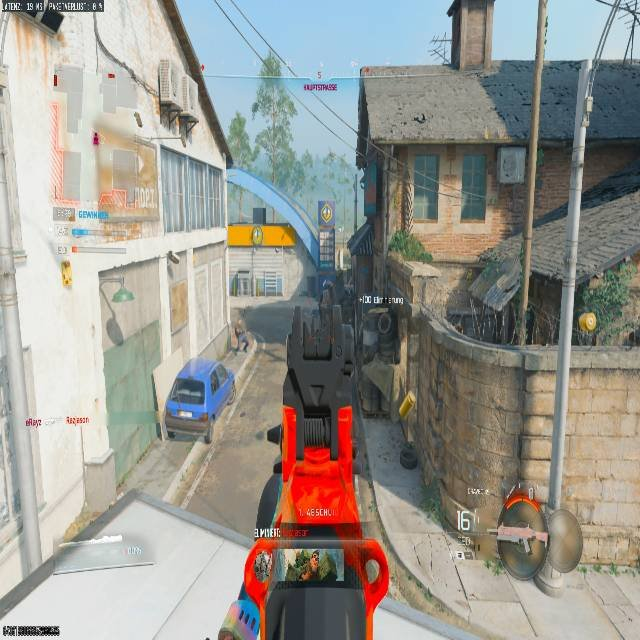player: (234, 317, 249, 352)
